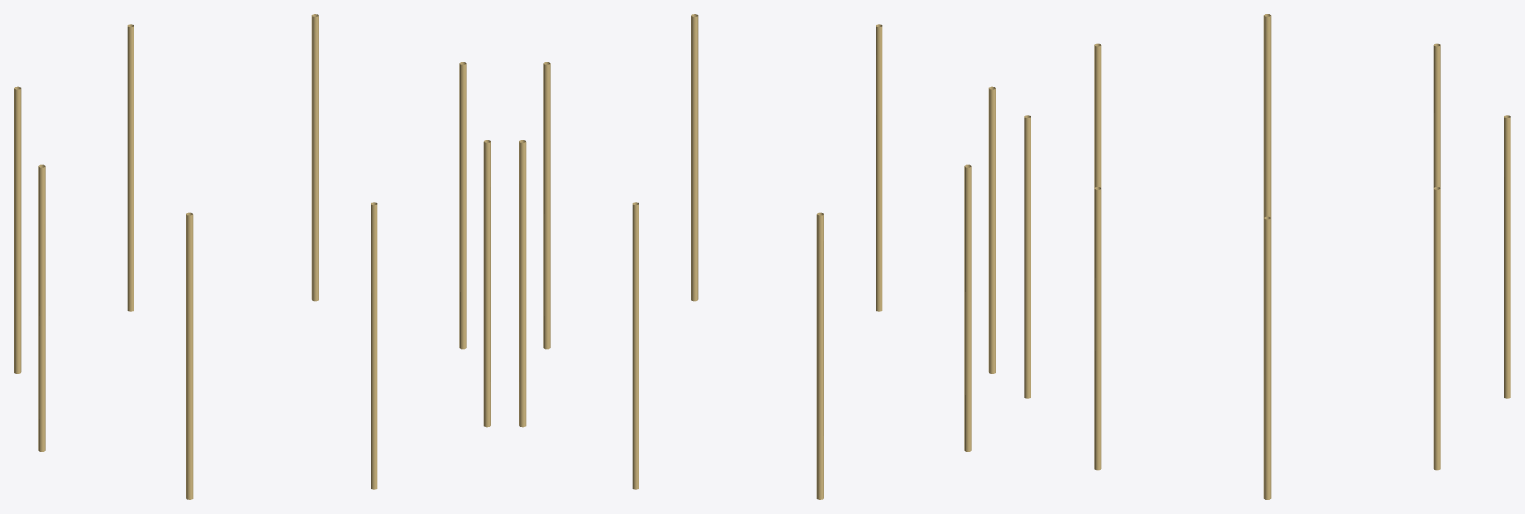
File: carruselsoporte.obj
3 views of the same model, side by side, from view 1: azimuth 30°, elevation 25°; view 2: azimuth 150°, elevation 25°; view 3: azimuth 270°, elevation 25° (orthographic).
Visible parts, largest first — view 1: carousel.009_m_carousel; view 2: carousel.009_m_carousel; view 3: carousel.009_m_carousel.
Boxes of the visible parts, x1,y1,x2,y2 form: carousel.009_m_carousel: (14, 14, 490, 499); carousel.009_m_carousel: (519, 14, 995, 499); carousel.009_m_carousel: (1024, 14, 1510, 499).
Bounding box in the file's own units: 13.18 × 8.39 × 13.18.
